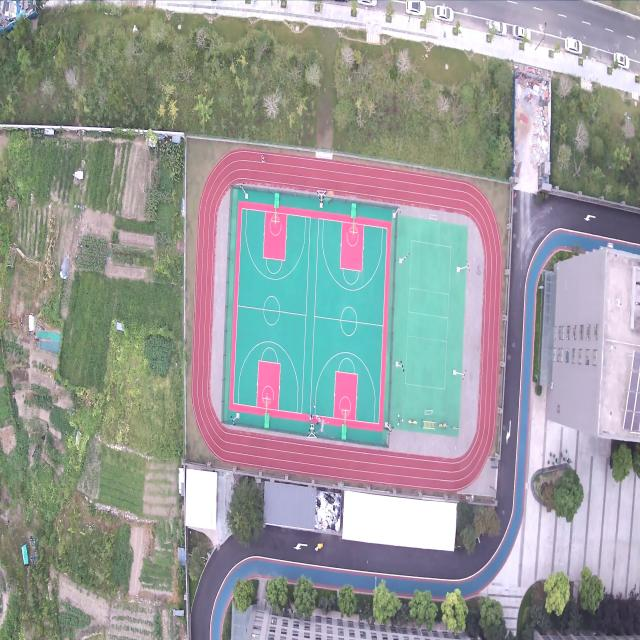UAV: (316, 418, 329, 435)
